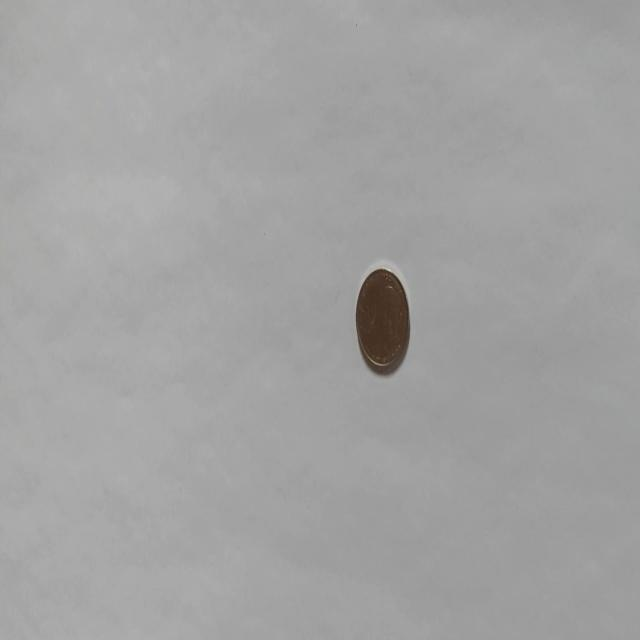seribu rupiah koin: (354, 262, 411, 374)
